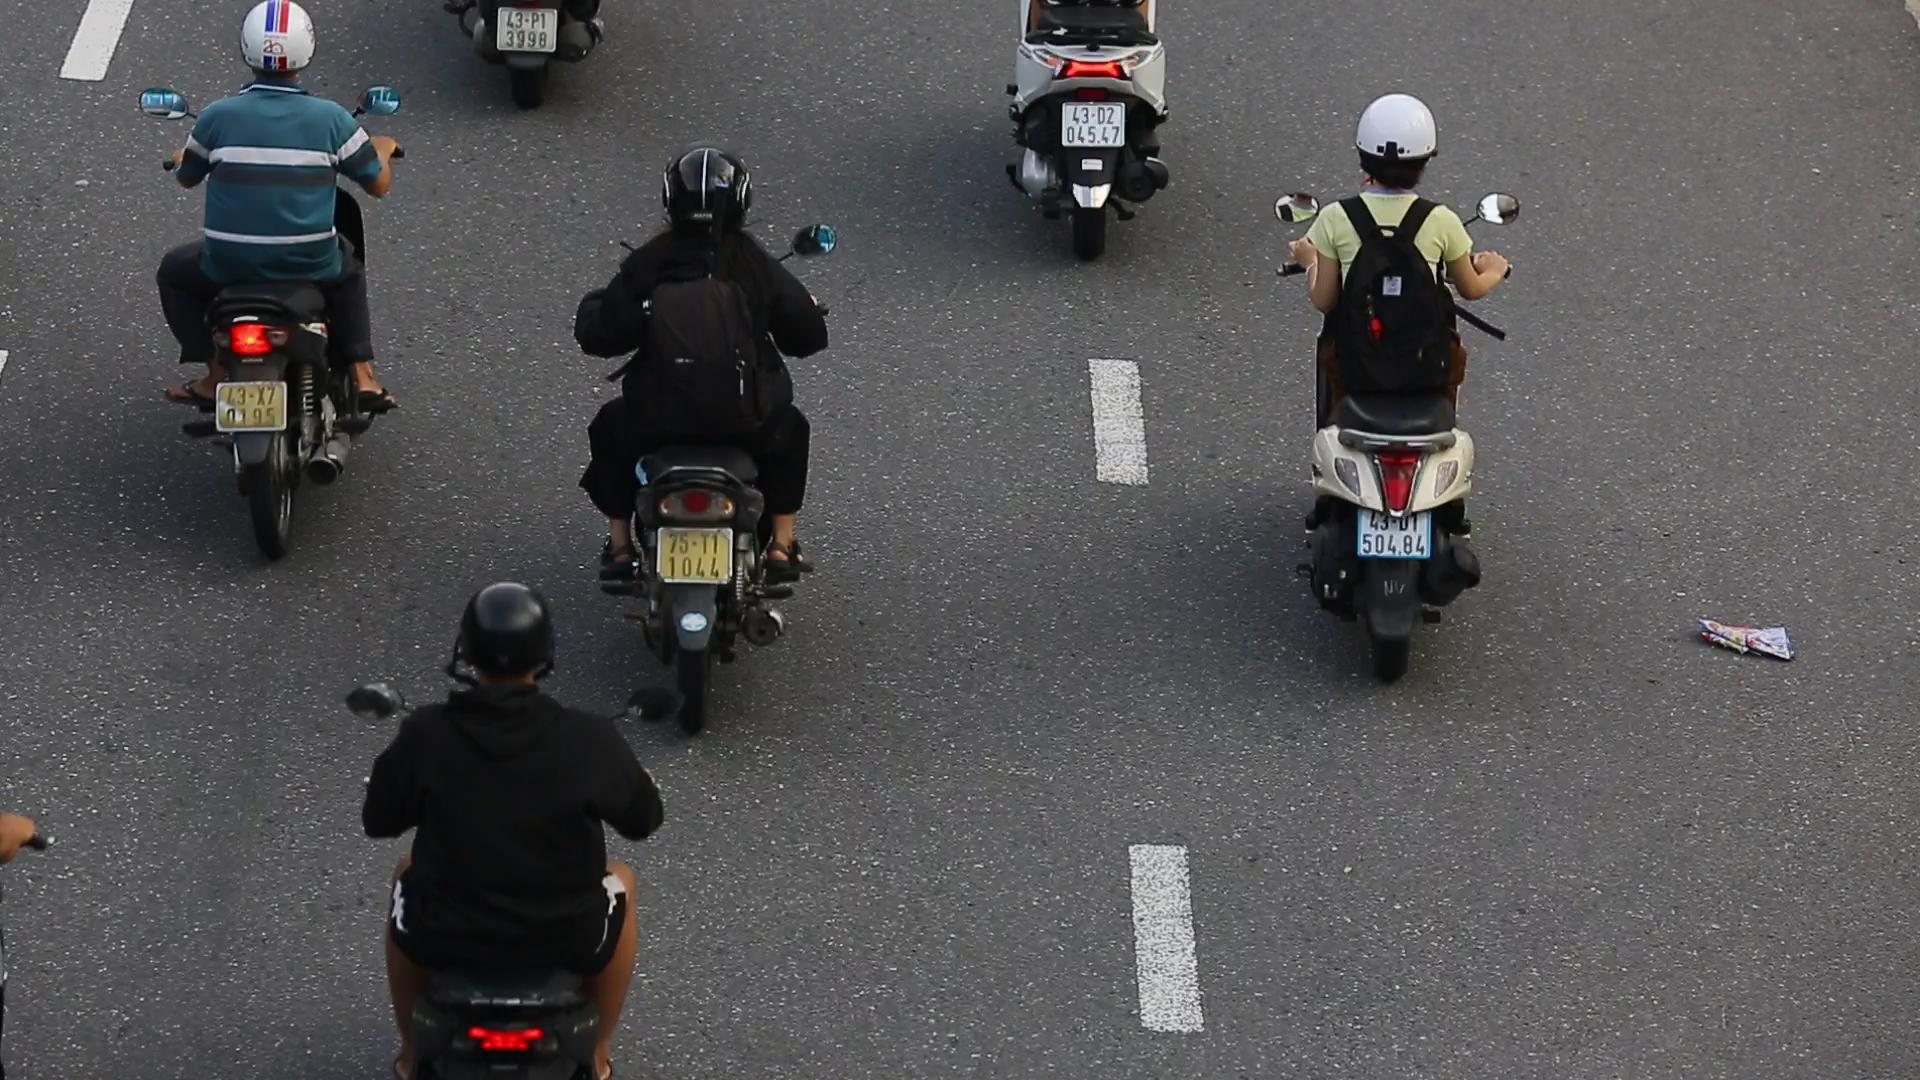motobike: (128, 0, 417, 563), (1265, 94, 1524, 678), (570, 144, 819, 731)
